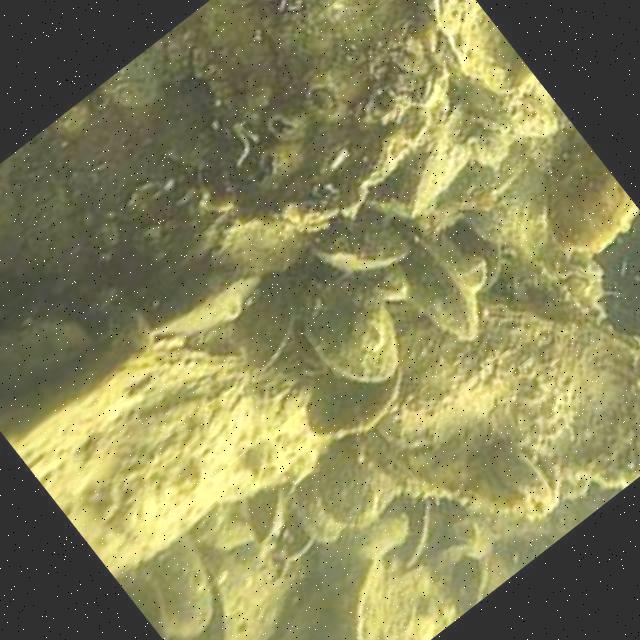Oyster-Closed: (15, 346, 322, 574), (358, 302, 640, 511), (549, 135, 639, 251), (430, 0, 537, 93), (309, 277, 390, 378), (406, 238, 482, 336), (152, 266, 261, 334), (307, 369, 401, 443), (233, 272, 296, 369), (316, 443, 395, 518), (158, 537, 217, 637), (312, 212, 411, 270), (485, 445, 555, 515), (294, 478, 346, 543)
